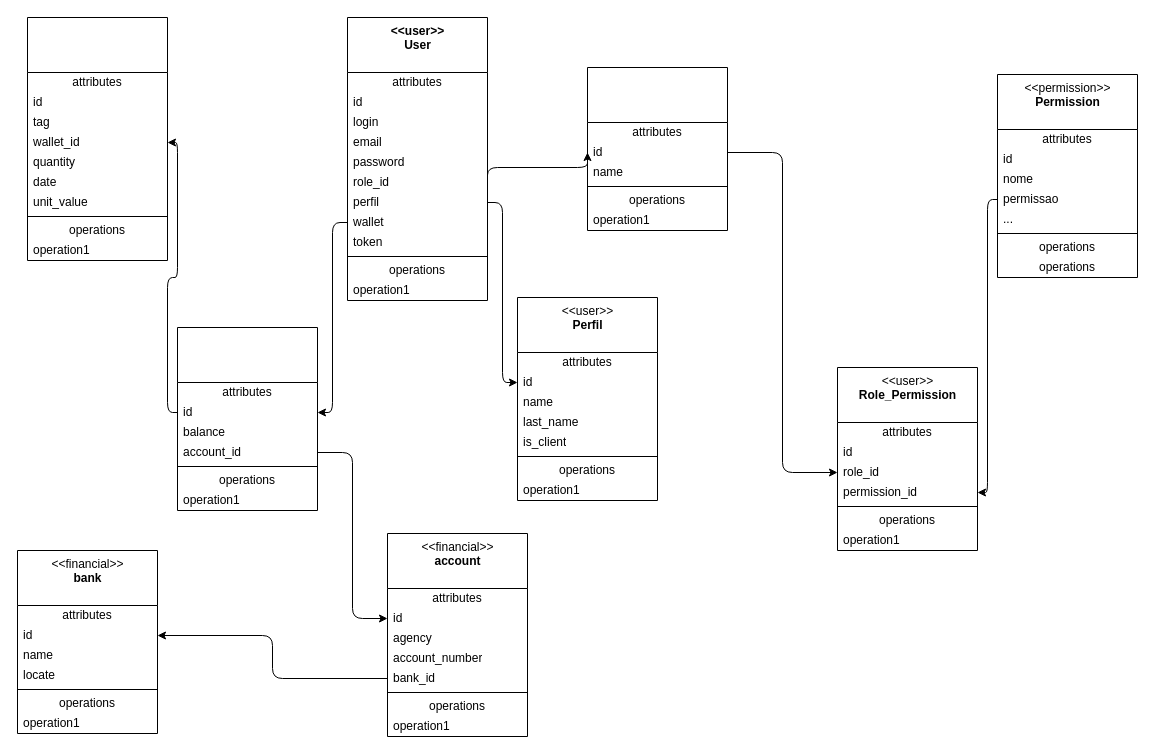
Some shapes in this 1155 by 754 pixel diagram are drawn without their labels. Each missing label, with the box of its shape:
<<financial>> Investiment: (26, 16, 168, 260)
<<financial>> wallet: (176, 326, 318, 510)
<<user>> Role: (586, 66, 728, 230)
